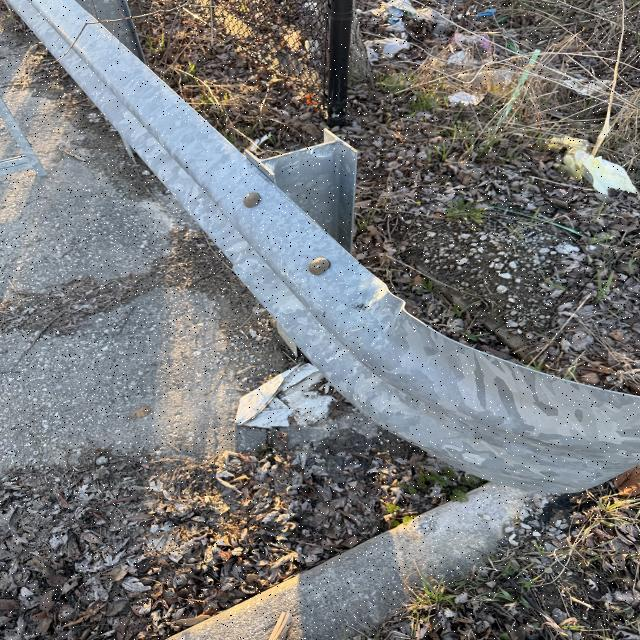Guard rail: (39, 84, 608, 464)
